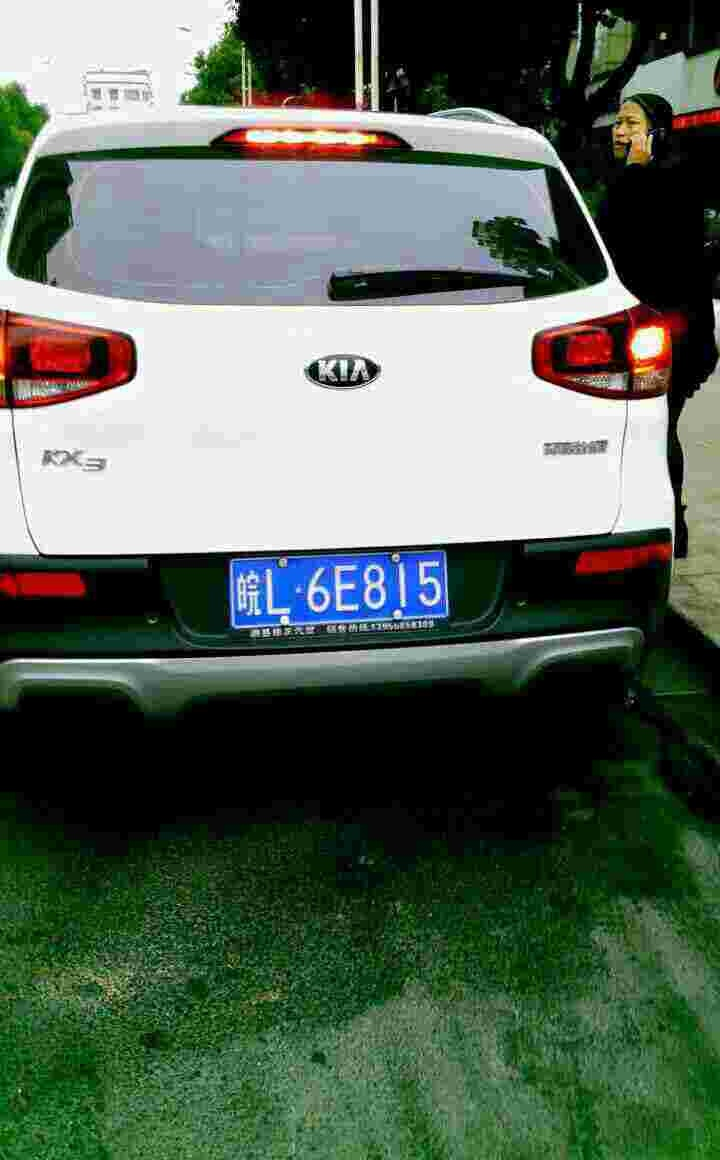plate: (231, 544, 455, 632)
